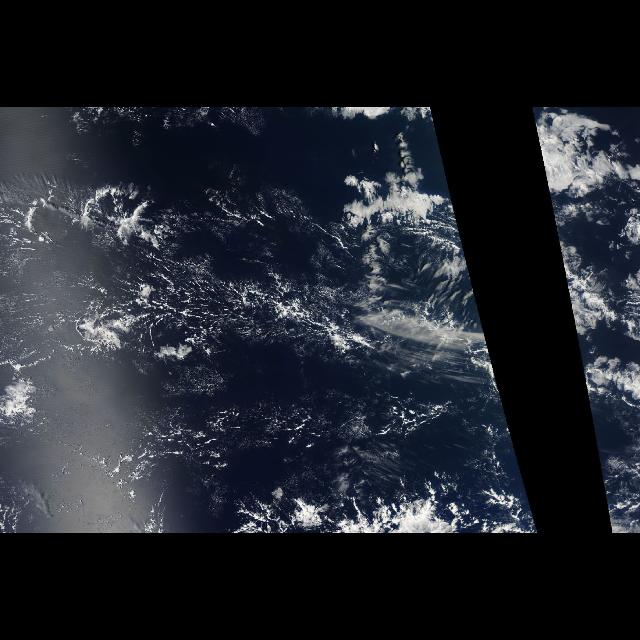Fish: (41, 264, 367, 356)
Gravel: (7, 168, 337, 374)
